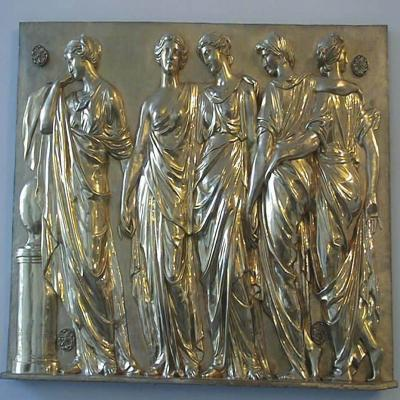sculpture: (3, 22, 394, 391)
